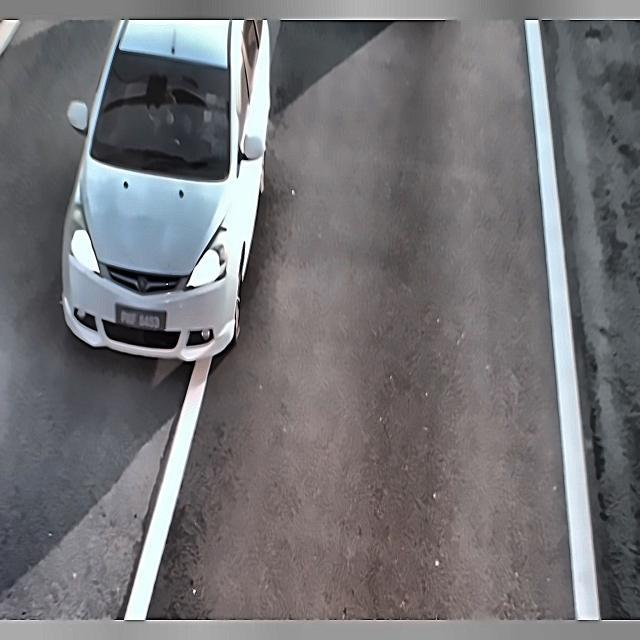car: (112, 299, 174, 334)
